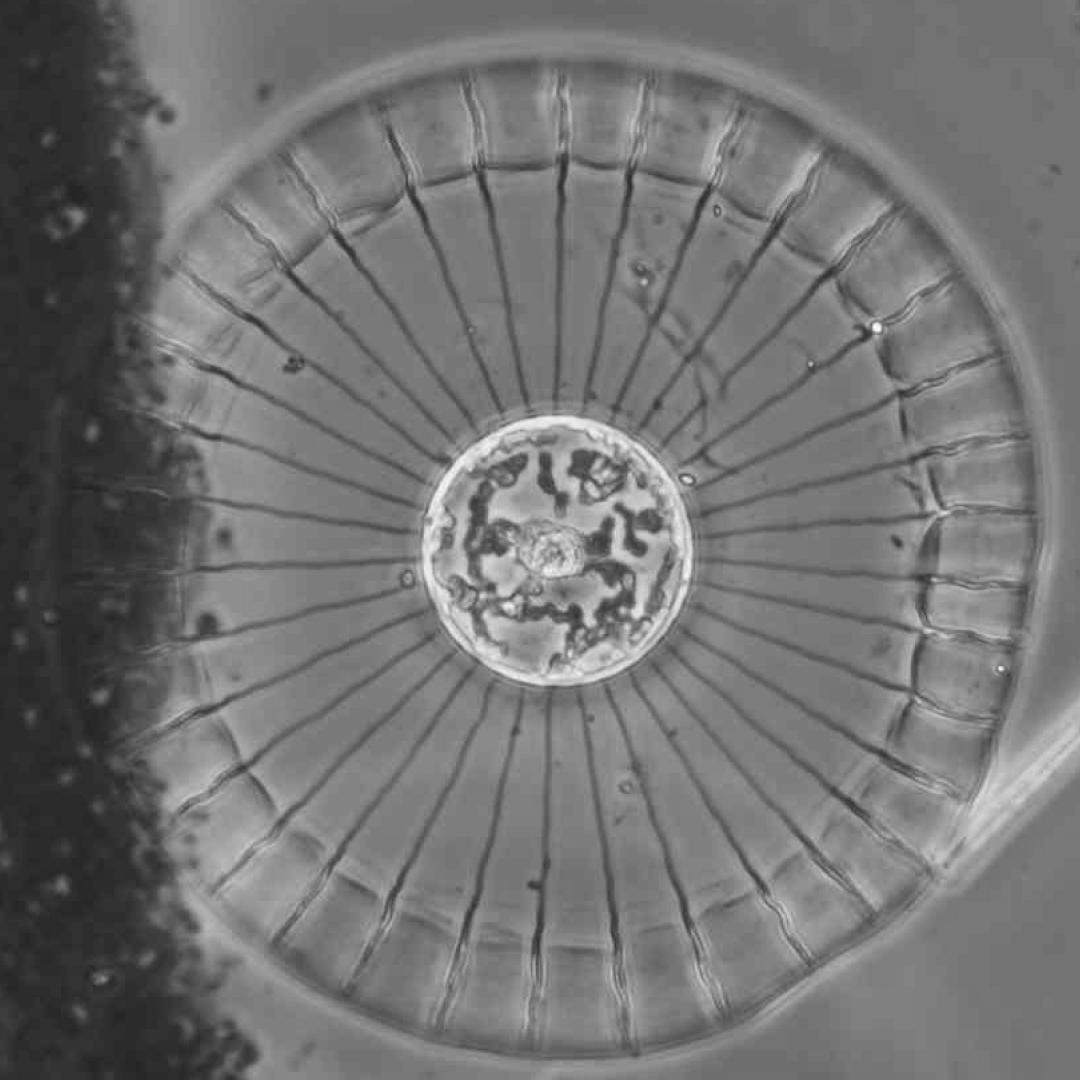planktoniella_sol: (63, 62, 1039, 1058)
